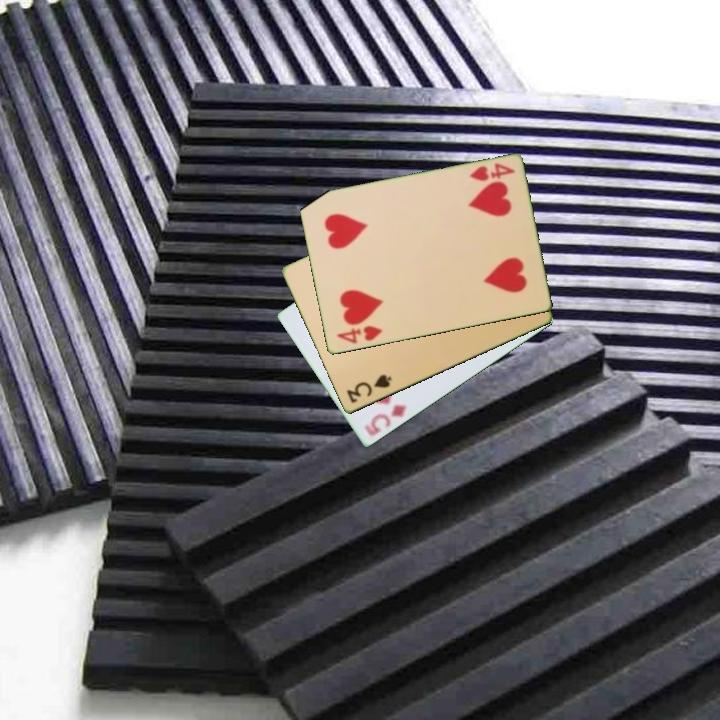3s: (343, 371, 395, 407)
4h: (332, 322, 385, 347), (466, 160, 518, 185)
5d: (360, 402, 410, 439)
